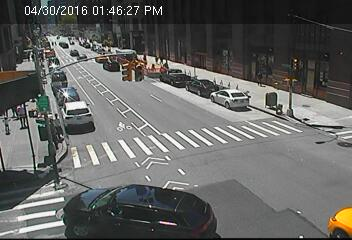neg: (213, 170, 250, 219), (297, 34, 329, 76), (259, 177, 284, 210), (215, 107, 235, 134), (108, 200, 127, 225), (292, 153, 310, 177), (67, 66, 84, 89), (62, 10, 76, 29), (253, 136, 267, 154), (314, 91, 328, 109), (197, 84, 210, 101), (109, 85, 122, 102), (124, 73, 136, 88), (194, 19, 205, 34), (125, 15, 136, 30), (88, 34, 99, 49), (301, 117, 312, 132), (114, 118, 125, 132), (206, 132, 217, 146), (167, 109, 177, 123), (166, 138, 176, 151), (171, 93, 180, 105), (228, 38, 235, 48), (269, 28, 276, 38), (40, 115, 47, 124), (29, 20, 36, 29), (20, 46, 27, 54)
pos: (9, 102, 31, 130), (252, 68, 268, 89), (153, 53, 162, 65), (157, 52, 166, 64)
